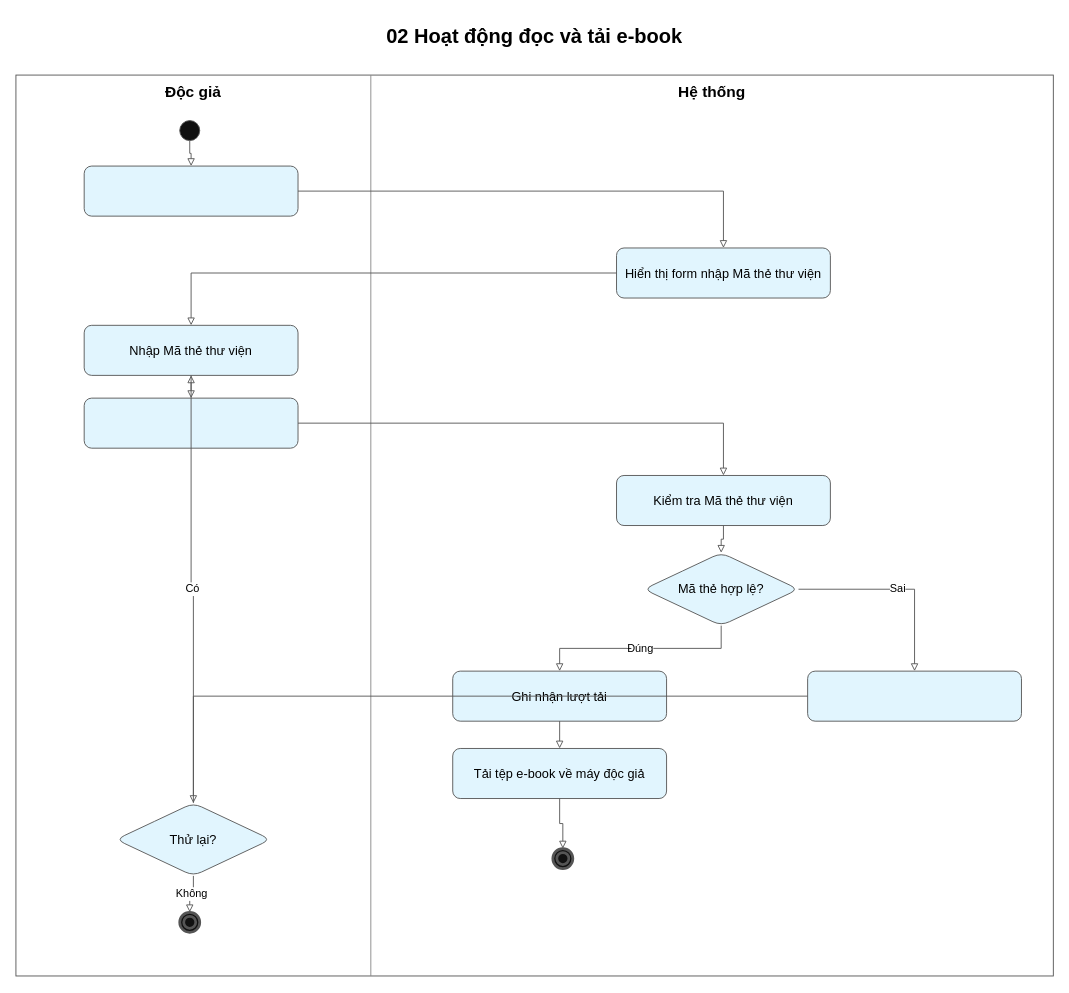
This 1069x993 diagram has some shape labels left out. The box of each missing label's shape, as (x1, y1, x2, y2) in pixels:
Chọn chức năng Tải về tại trang e-book: (83, 165, 298, 216)
Hiển thị thông báo lỗi: (807, 670, 1021, 721)
Nhấn nút Xác nhận tải: (83, 397, 298, 448)
